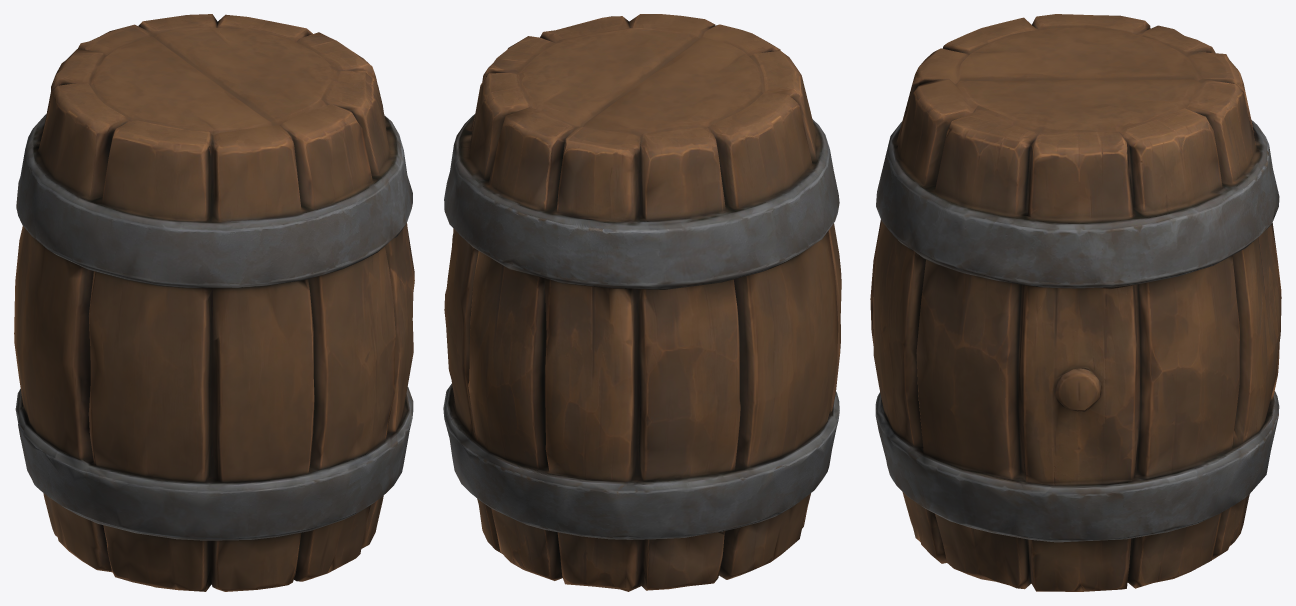
Rendered from SM_Decor_Barrel.fbx.
3 renders of one model, left to right at view 1: azimuth 30°, elevation 25°; view 2: azimuth 150°, elevation 25°; view 3: azimuth 270°, elevation 25°, orthographic.
Parts seen in each view (by area): view 1: SM_Decor_Barrel; view 2: SM_Decor_Barrel; view 3: SM_Decor_Barrel.
Part boxes in pixels (bbox=[...]): SM_Decor_Barrel: bbox=[14, 14, 414, 591]; SM_Decor_Barrel: bbox=[443, 14, 841, 591]; SM_Decor_Barrel: bbox=[870, 14, 1281, 591].
Bounding box in the file's own units: 21.42 × 21.36 × 26.
Materials: 1 (1 with a texture image).
